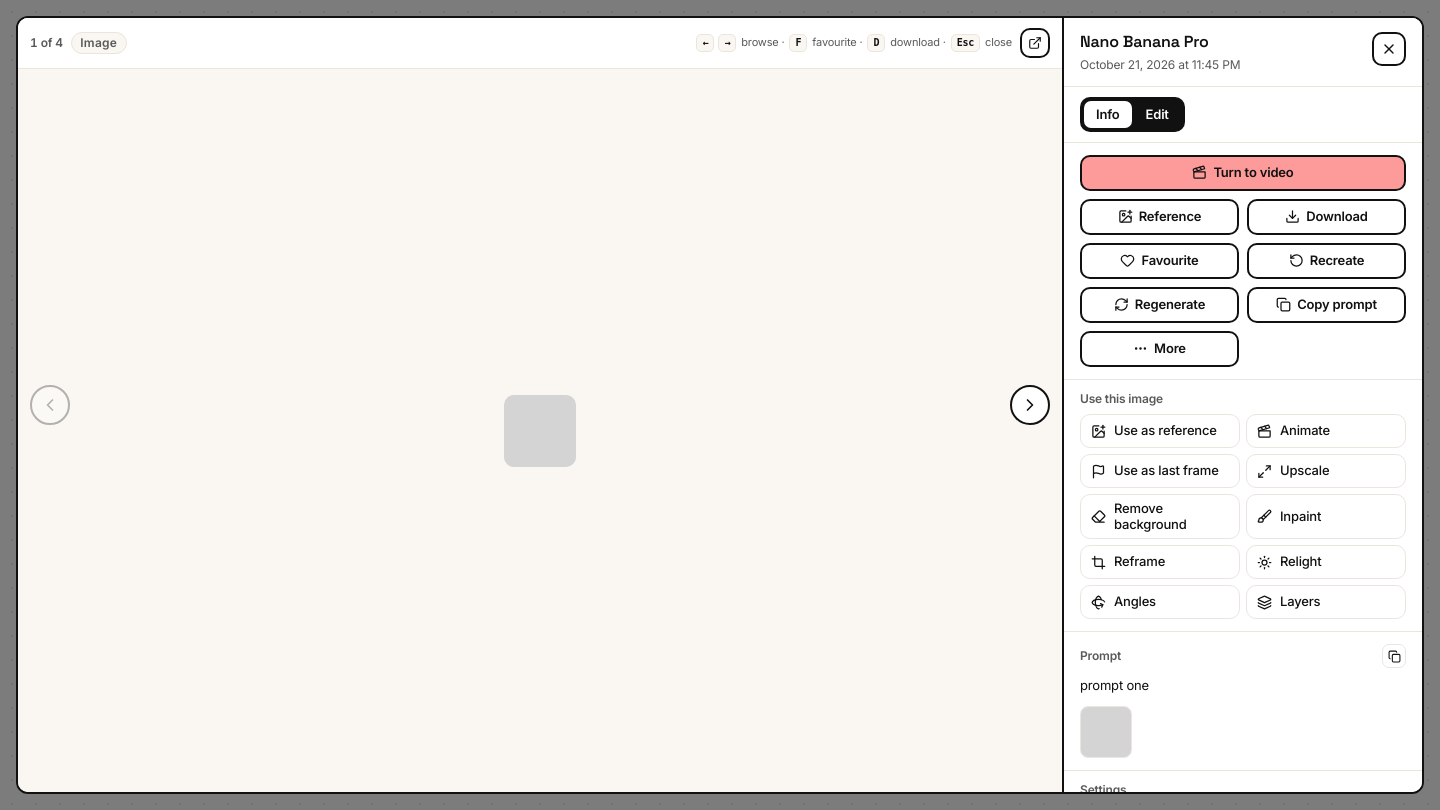
Viewer › offers Turn to video on a still, and Regenerate runs the same job once the models are in
Expected: the button "Turn to video" is shown, [1080, 155, 1406, 191]
Click the button "Regenerate". click: point(1160, 305)
box: [1080, 287, 1239, 323]
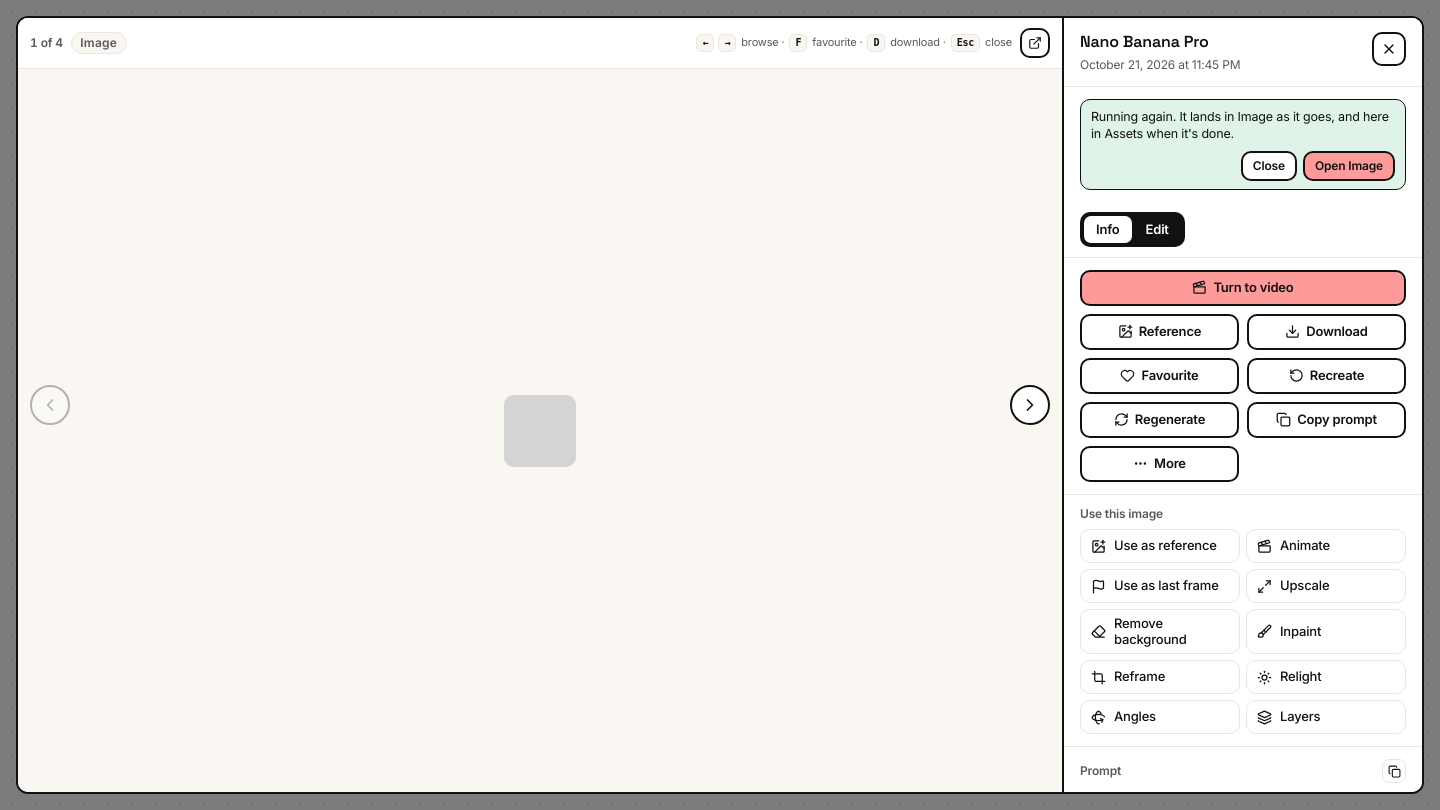
Now the text "Running again" is shown, box [1091, 109, 1389, 141]
